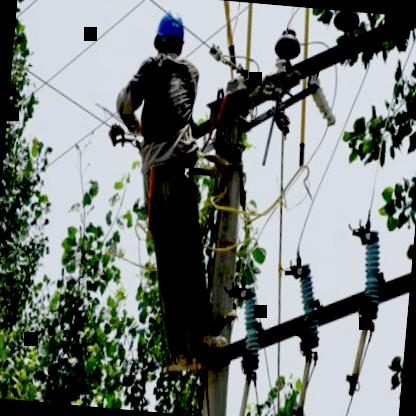helmet: (150, 6, 188, 64)
